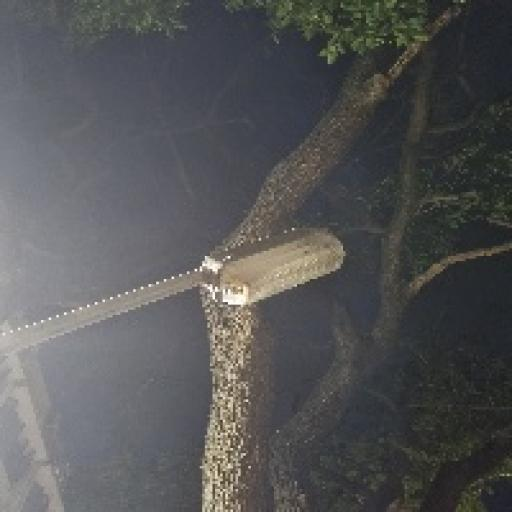Not Working: (178, 216, 360, 320)
